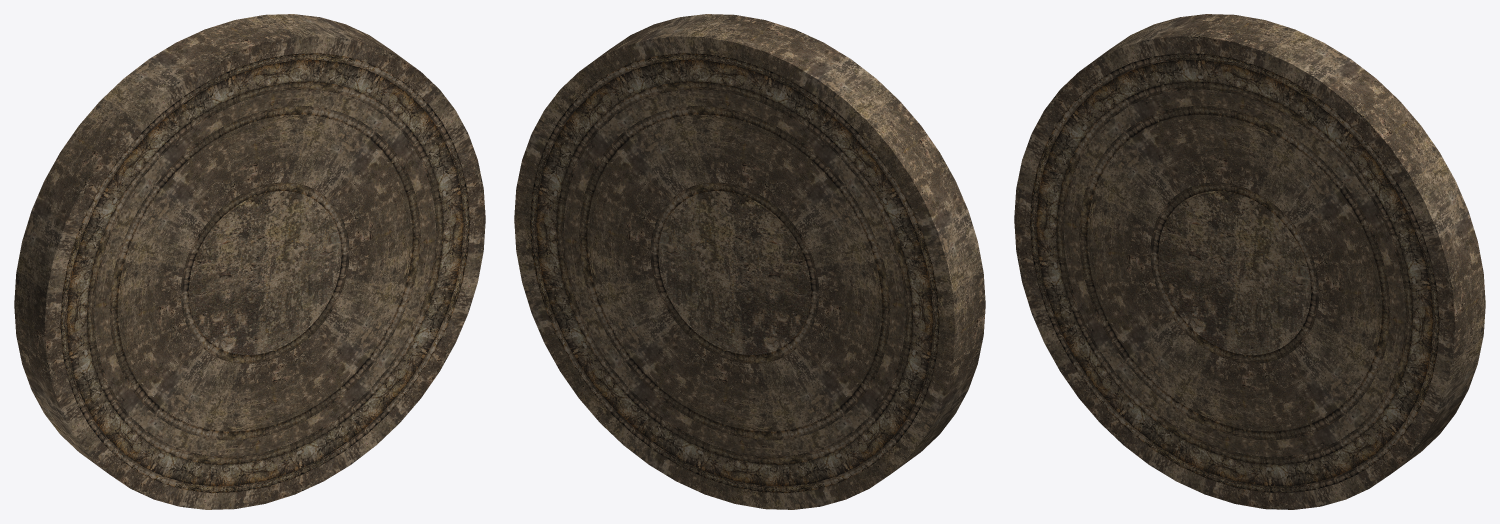
File: materials_5_decoration_plate_14.fbx
The picture shows the model from 3 angles, left to right: view 1: azimuth 30°, elevation 25°; view 2: azimuth 150°, elevation 25°; view 3: azimuth 330°, elevation 25°; orthographic projection.
Visible parts, largest first — view 1: materials_5_decoration_plate_14; view 2: materials_5_decoration_plate_14; view 3: materials_5_decoration_plate_14.
Part boxes in pixels (<box>): materials_5_decoration_plate_14: <box>14,14,485,509</box>; materials_5_decoration_plate_14: <box>514,14,985,509</box>; materials_5_decoration_plate_14: <box>1014,14,1485,509</box>.
Bounding box in the file's own units: 127 × 127 × 15.12.
